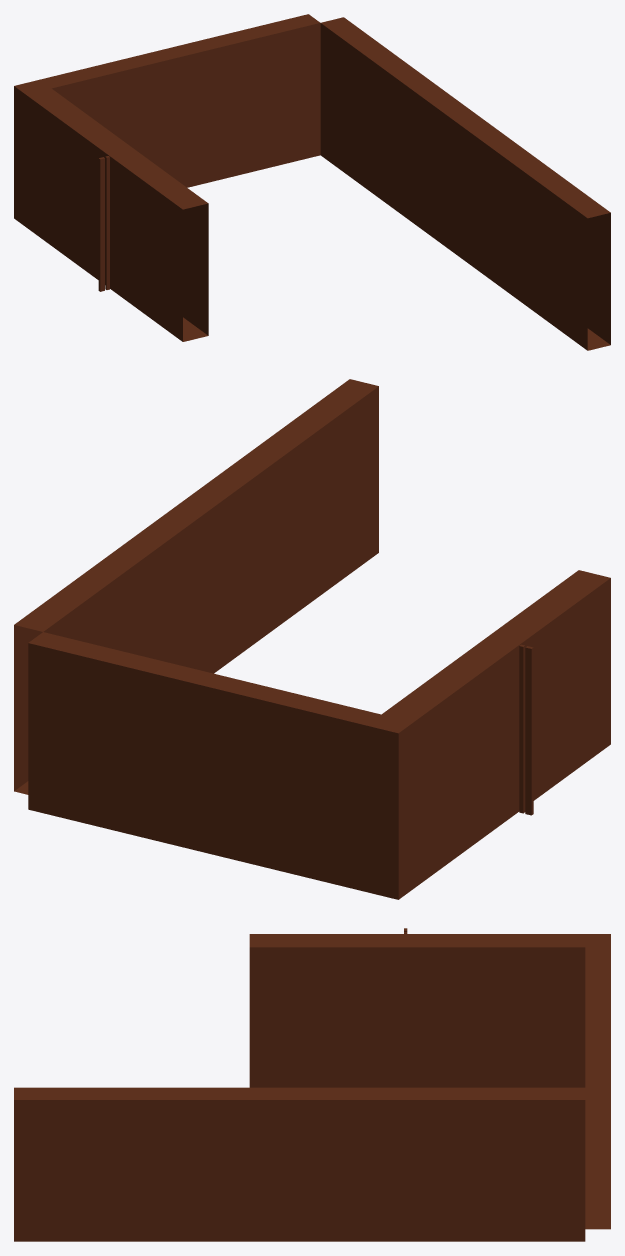
Rendered from paredes_level0.fbx.
3 views of the same model, one above another, from view 1: azimuth 30°, elevation 25°; view 2: azimuth 150°, elevation 25°; view 3: azimuth 270°, elevation 25° (orthographic). The views are drawn at different scales.
Parts seen in each view (by area): view 1: plantaCasa.032, plantaCasa.030, plantaCasa.031; view 2: plantaCasa.031, plantaCasa.032, plantaCasa.030; view 3: plantaCasa.032, plantaCasa.030, plantaCasa.031.
Boxes of the visible parts, x1,y1,x2,y2 form: plantaCasa.032: (320, 17, 610, 350); plantaCasa.030: (14, 79, 208, 341); plantaCasa.031: (40, 14, 320, 187); plantaCasa.031: (28, 632, 380, 891); plantaCasa.032: (14, 379, 378, 794); plantaCasa.030: (366, 570, 610, 899); plantaCasa.032: (14, 1087, 585, 1241); plantaCasa.030: (249, 928, 610, 1088); plantaCasa.031: (585, 947, 610, 1229).
Bounding box in the file's own units: 1096 × 423 × 1614.
